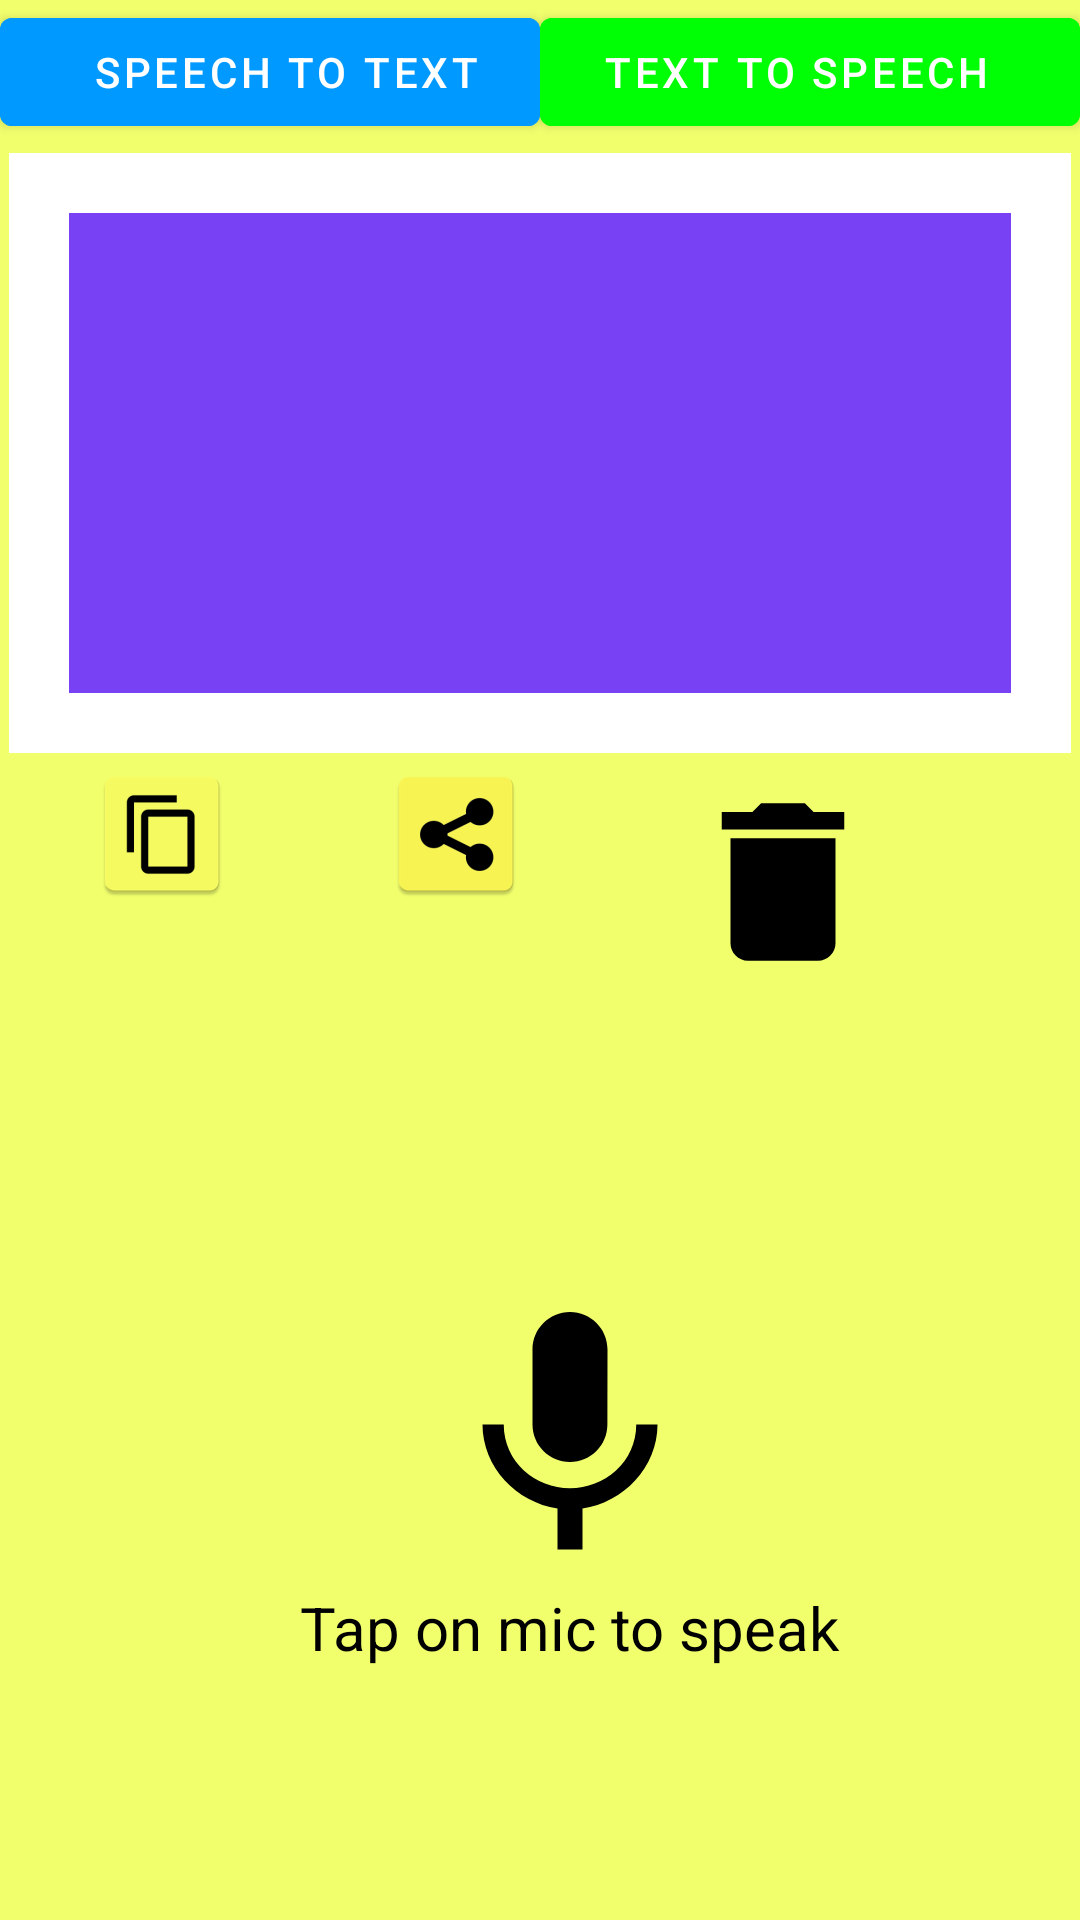

Locate icon controls on the screen. Image size 1080px×1920px, boxes as [x1=x1, y1=y1, x2=x2, y2=y2].
delete: [x1=721, y1=803, x2=845, y2=961]
share: [x1=399, y1=777, x2=514, y2=895]
